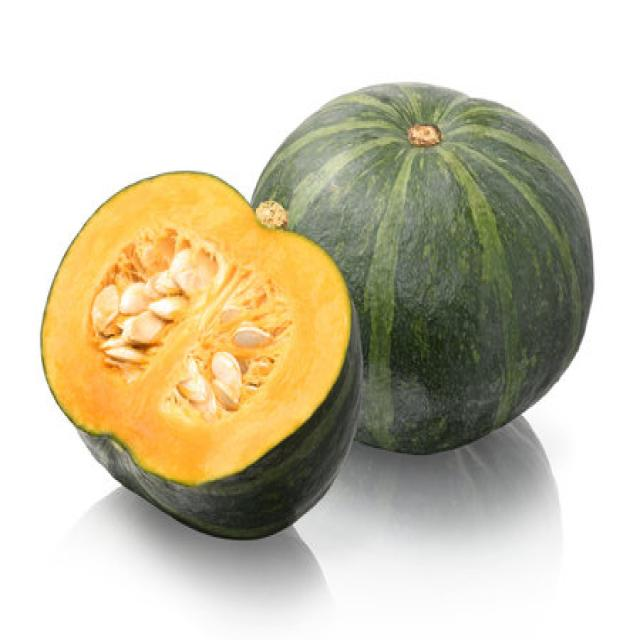Pumpkin: (249, 78, 594, 455), (38, 162, 363, 535)
